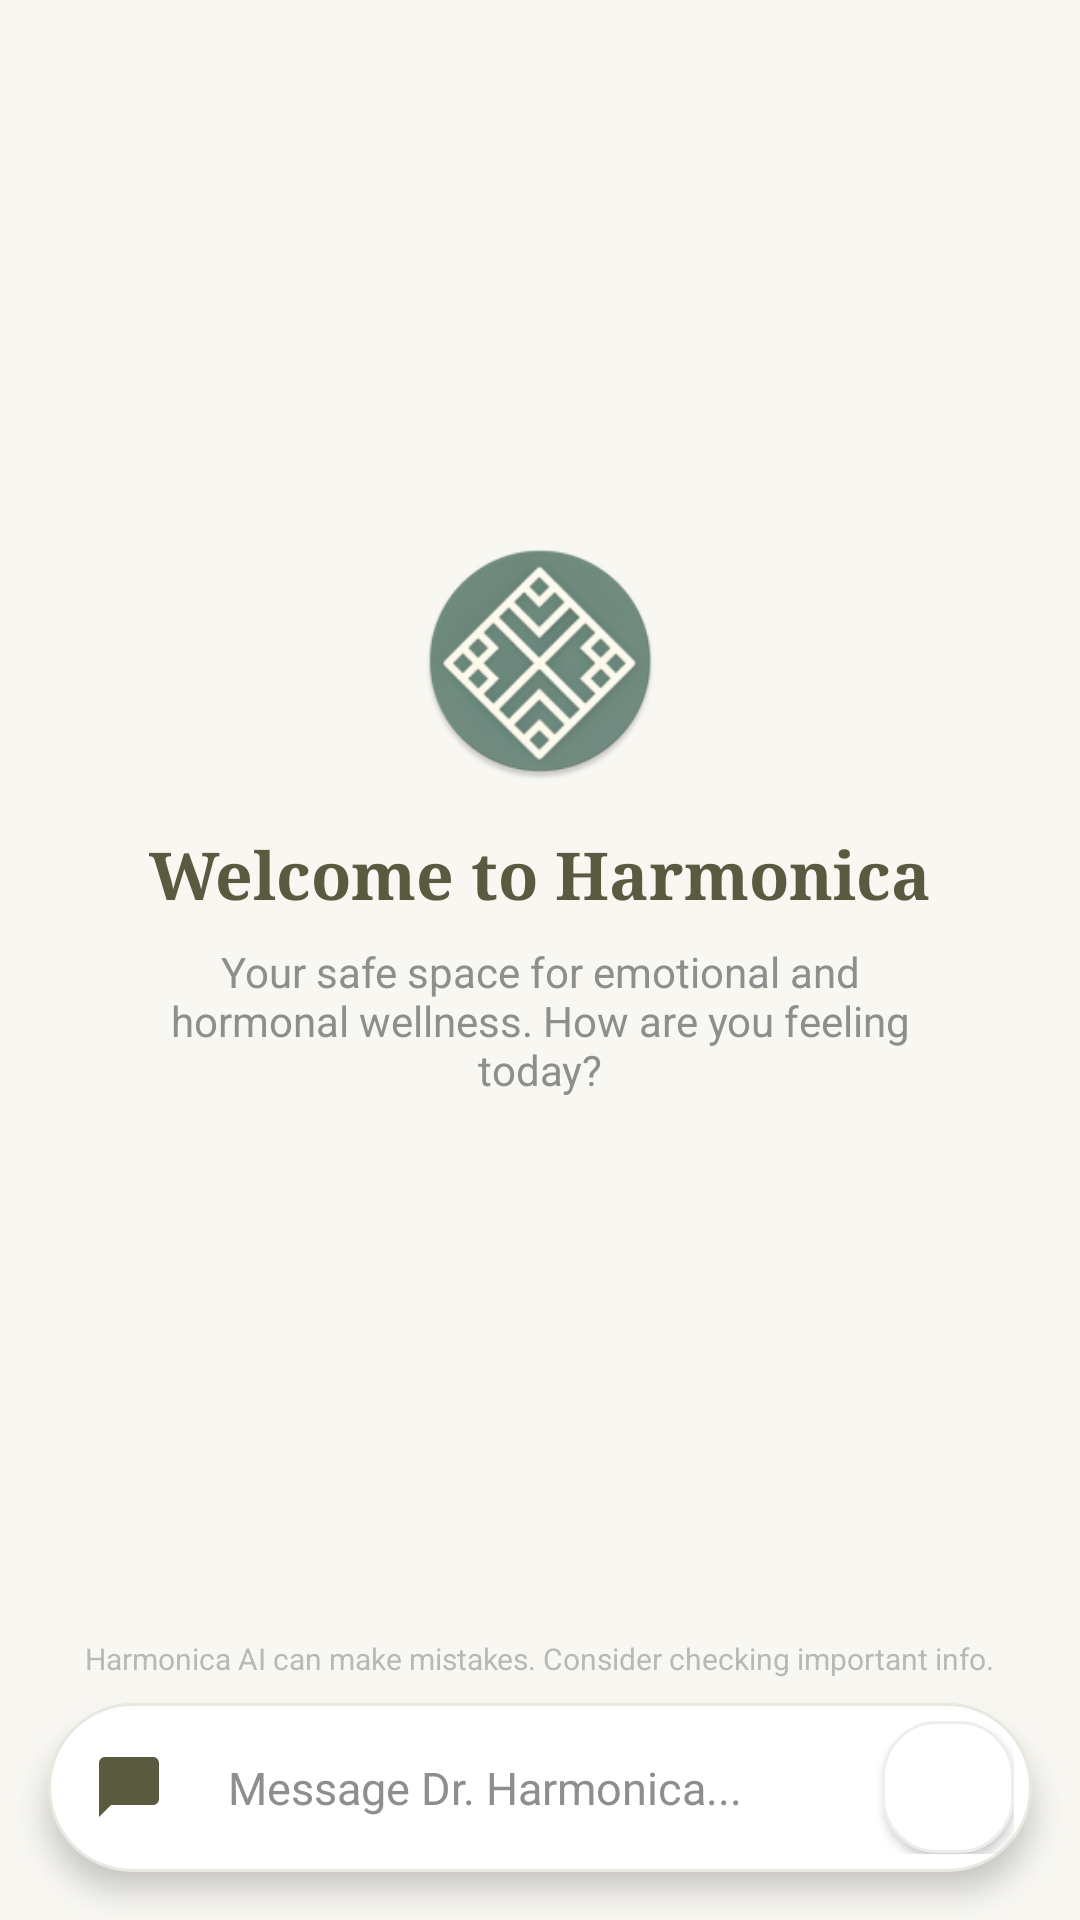

Icons on this 1080×1920 Android screen, each with the point to tap as (x,y):
chat bubble: (129,1787)
